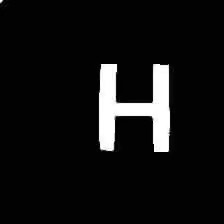LTR_H: (92, 56, 176, 157)
